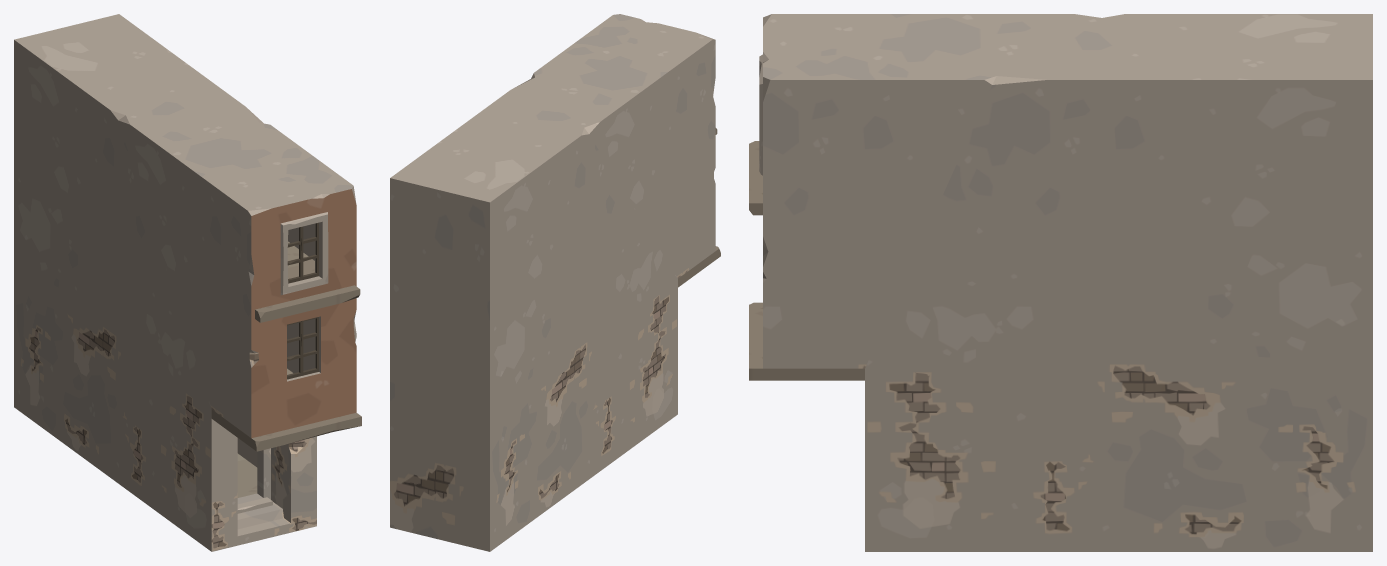
Rendered from SM_Bld_Shop_13.fbx.
3 views of the same model, side by side, from view 1: azimuth 30°, elevation 25°; view 2: azimuth 150°, elevation 25°; view 3: azimuth 270°, elevation 25° (orthographic). The views are drawn at different scales.
Visible parts, largest first — view 1: SM_Bld_Shop_03; view 2: SM_Bld_Shop_03; view 3: SM_Bld_Shop_03.
Boxes of the visible parts, x1=… form: SM_Bld_Shop_03: x1=14, y1=14, x2=361, y2=551; SM_Bld_Shop_03: x1=390, y1=14, x2=720, y2=551; SM_Bld_Shop_03: x1=749, y1=14, x2=1372, y2=551.
Bounding box in the file's own units: 307 × 1027 × 1230.
